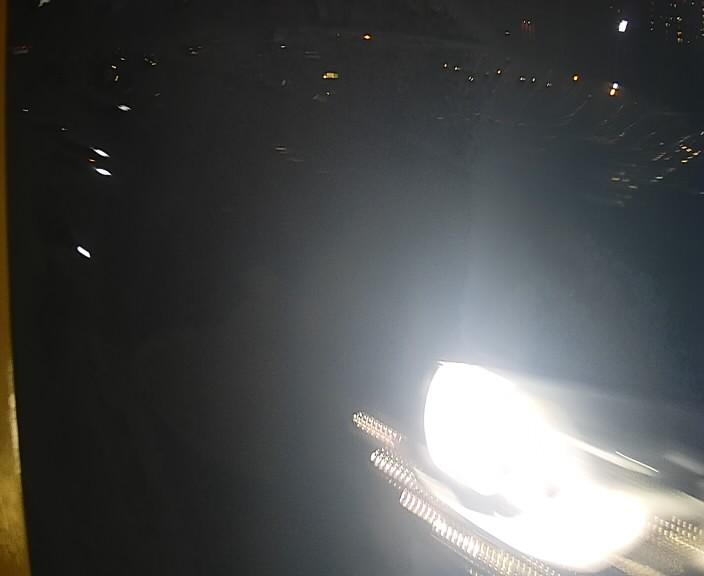Car: (92, 47, 645, 551)
